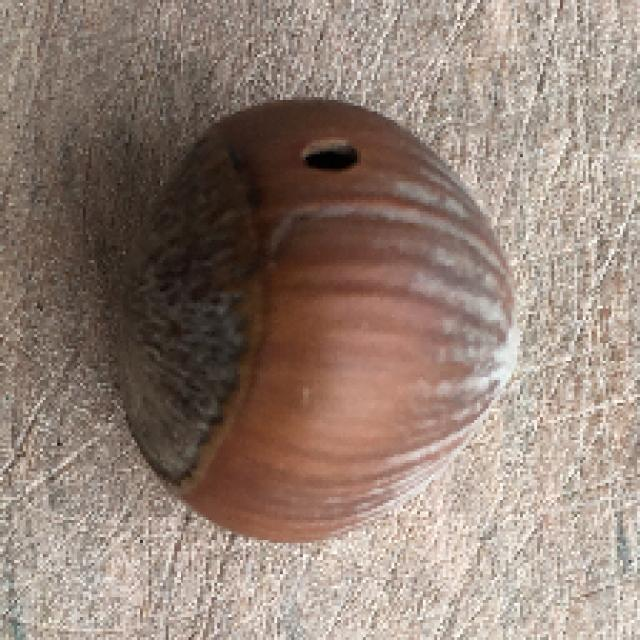damagedHazelnut: (108, 97, 528, 542)
